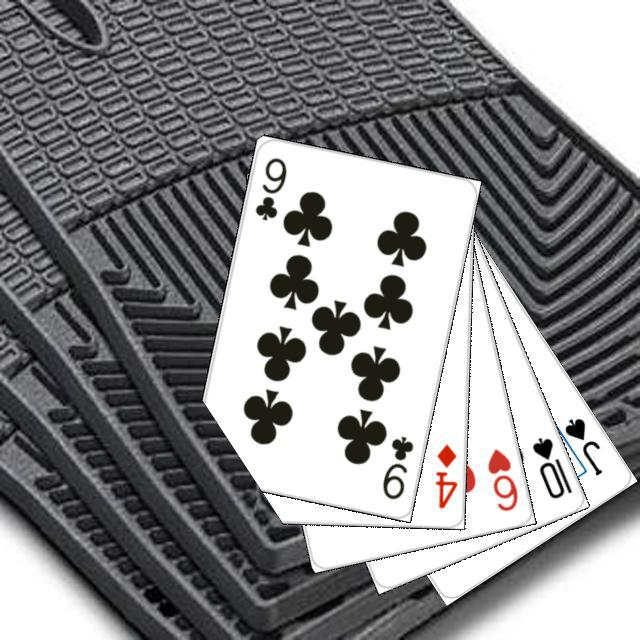10s: (527, 432, 574, 501)
4d: (430, 439, 458, 510)
6h: (482, 443, 520, 513)
9c: (250, 152, 289, 222), (377, 431, 415, 501)
Js: (559, 413, 604, 478)
